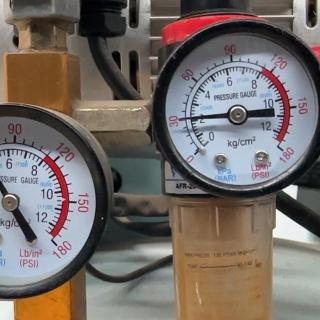gauge: (152, 13, 320, 200), (0, 99, 112, 308), (185, 140, 211, 166), (227, 103, 249, 125), (0, 192, 20, 212), (272, 139, 290, 159), (172, 115, 184, 124)
